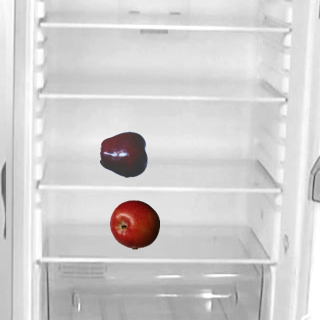Apple Braeburn: (109, 199, 159, 249)
Apple Red Delicious: (99, 129, 149, 179)
